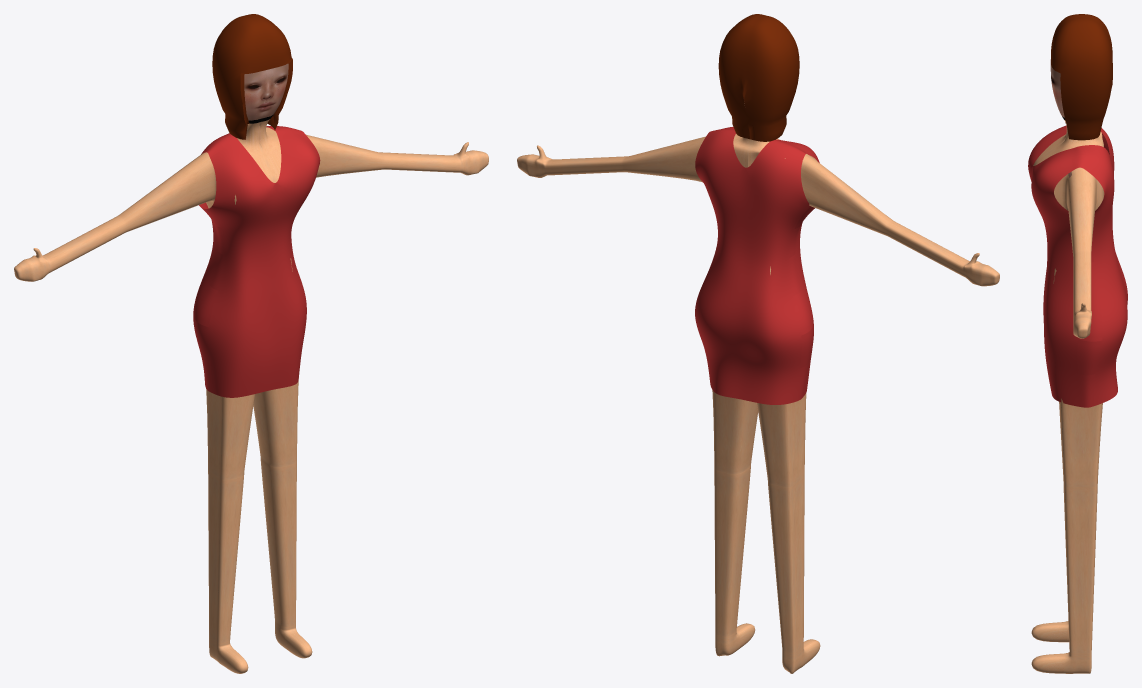
Rendered from Weibsbild2.fbx.
3 renders of one model, left to right at view 1: azimuth 30°, elevation 25°; view 2: azimuth 150°, elevation 25°; view 3: azimuth 270°, elevation 25°, orthographic.
Visible parts, largest first — view 1: Body, Kleid; view 2: Body, Kleid; view 3: Body, Kleid.
Boxes of the visible parts, x1,y1,x2,y2 form: Body: [14, 14, 488, 673]; Kleid: [193, 126, 320, 397]; Body: [517, 14, 999, 673]; Kleid: [695, 127, 819, 404]; Body: [1031, 14, 1112, 673]; Kleid: [1028, 125, 1127, 407].
Size of the model in its own units: 468 by 601 by 85.
Materials: 4 (2 with a texture image).
